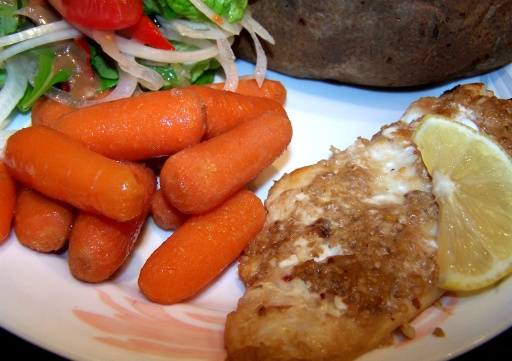background: (0, 0, 410, 204)
